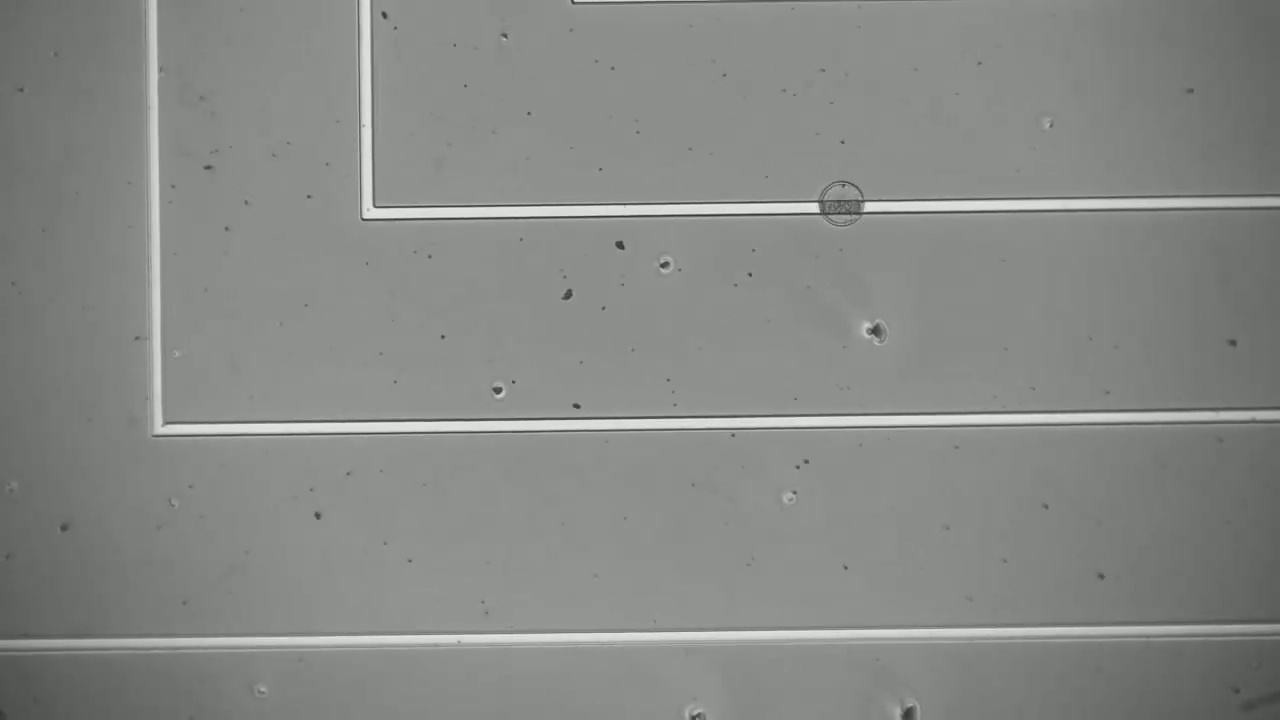gray_line: (802, 192, 882, 221)
